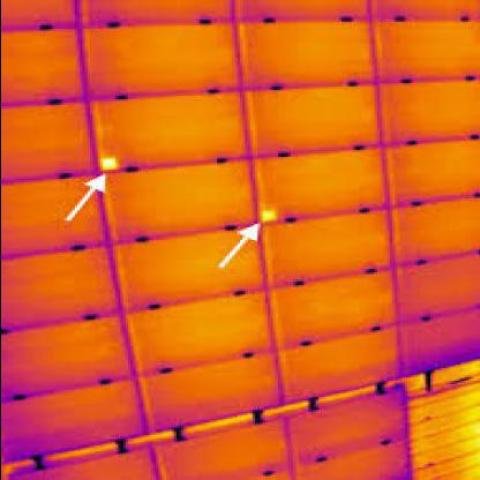fault: (259, 208, 278, 220), (102, 158, 118, 171)
